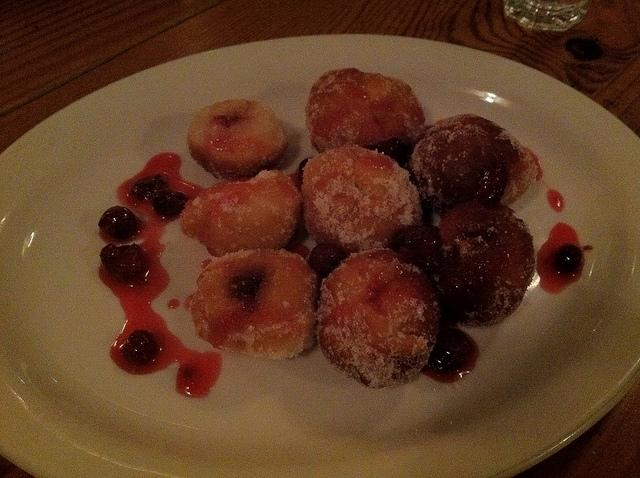blueberry: (427, 321, 472, 375), (99, 244, 149, 284), (119, 330, 159, 367), (474, 164, 508, 207), (306, 243, 346, 278), (98, 205, 136, 238), (152, 190, 190, 218), (552, 244, 582, 276), (132, 176, 168, 202), (412, 226, 442, 256), (382, 138, 410, 166), (438, 278, 464, 303)
cherry: (428, 327, 472, 374), (99, 243, 148, 284), (474, 164, 507, 209), (98, 205, 136, 238), (122, 330, 156, 365), (308, 243, 346, 274), (130, 174, 170, 203), (402, 225, 442, 253), (436, 278, 466, 314), (150, 189, 188, 217), (381, 137, 413, 168), (553, 244, 581, 274), (298, 156, 312, 176)
